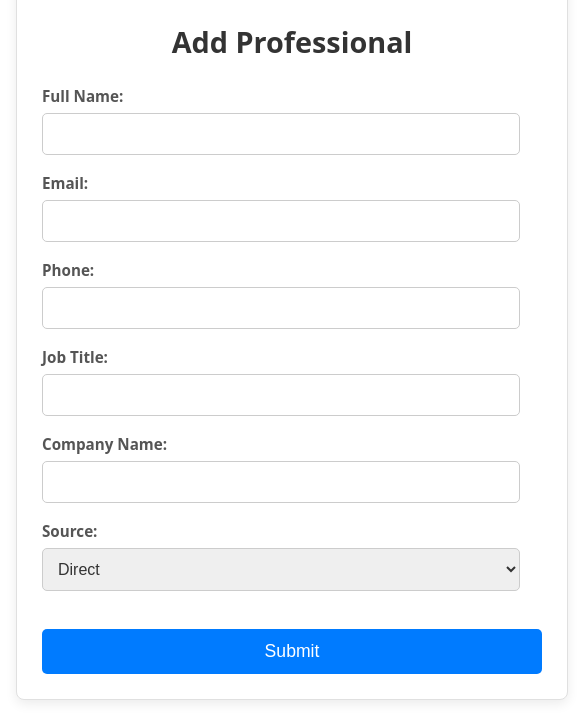
Test: ProfessionalForm › shows an error message when full name is missing
(page scrolled)
Click the button "Submit": (292, 651) [42,629,542,674]
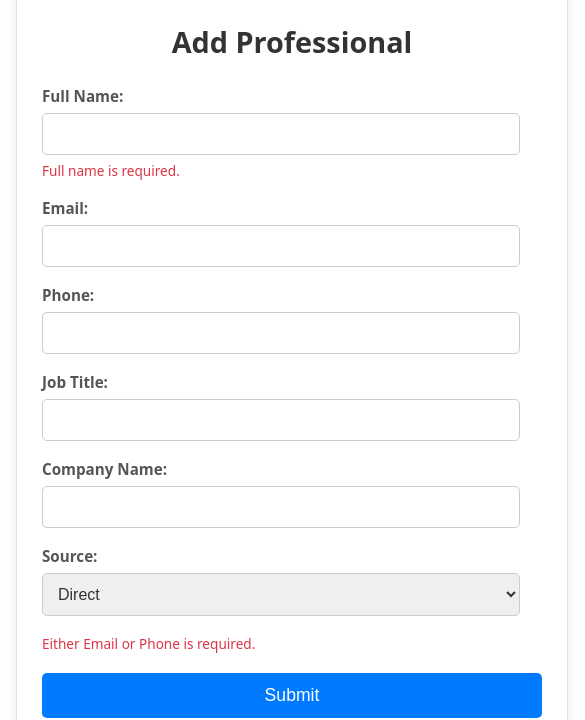
Expected: the text "Full name is required." is shown, [42,161,180,180]
